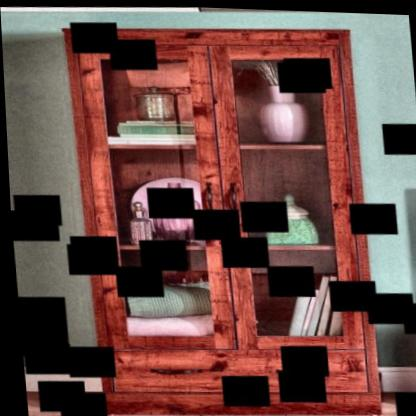Cupboard: (66, 16, 380, 416)
